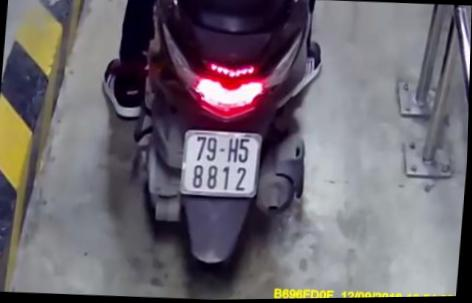LP: (179, 126, 265, 200)
